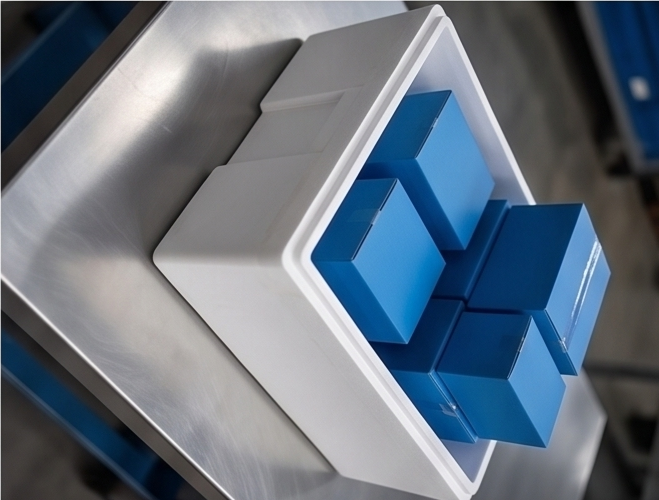blue_box: (48, 124, 194, 295), (212, 153, 351, 321), (160, 248, 303, 409), (91, 53, 223, 188), (181, 56, 289, 201), (148, 198, 227, 300)
container_box: (95, 0, 508, 496)
